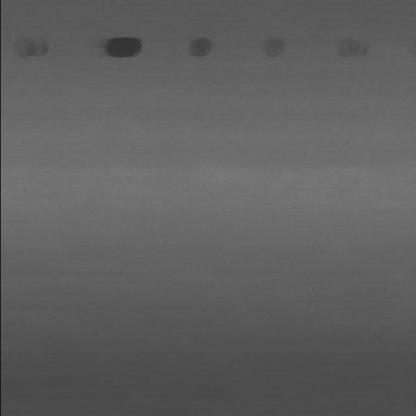oil_spot: (104, 33, 145, 61), (5, 37, 53, 59), (262, 33, 302, 57), (187, 35, 213, 57), (340, 38, 370, 56)
